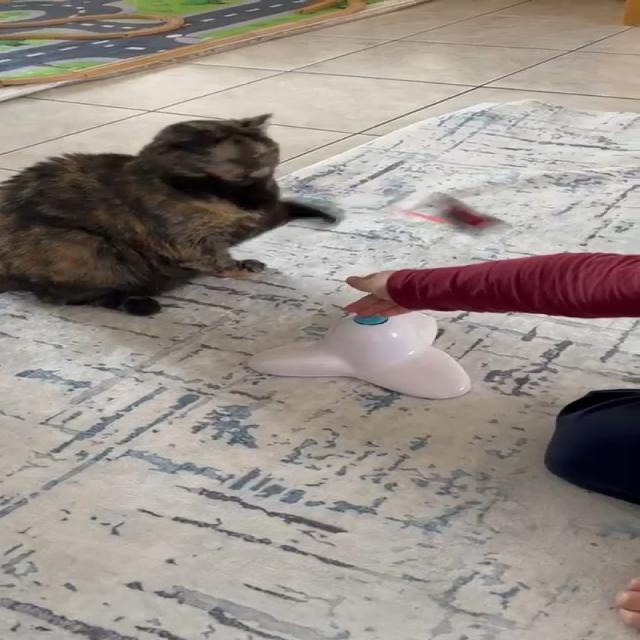authorized: (0, 112, 336, 316)
